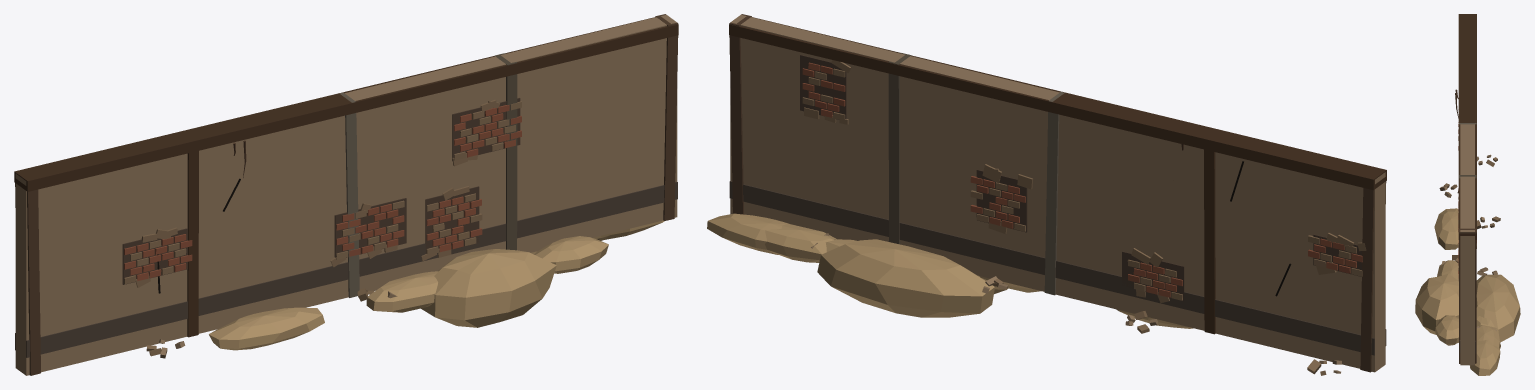
Rendered from TownWall.glb.
The picture shows the model from 3 angles, left to right: view 1: azimuth 30°, elevation 25°; view 2: azimuth 150°, elevation 25°; view 3: azimuth 270°, elevation 25°; orthographic projection. The views are drawn at different scales.
Parts seen in each view (by area): view 1: TownWall.001; view 2: TownWall.001; view 3: TownWall.001.
Boxes of the visible parts, x1,y1,x2,y2 form: TownWall.001: [14, 14, 678, 375]; TownWall.001: [707, 14, 1386, 375]; TownWall.001: [1415, 14, 1520, 375].
Size of the model in its own units: 14.29 by 4.95 by 2.86.
